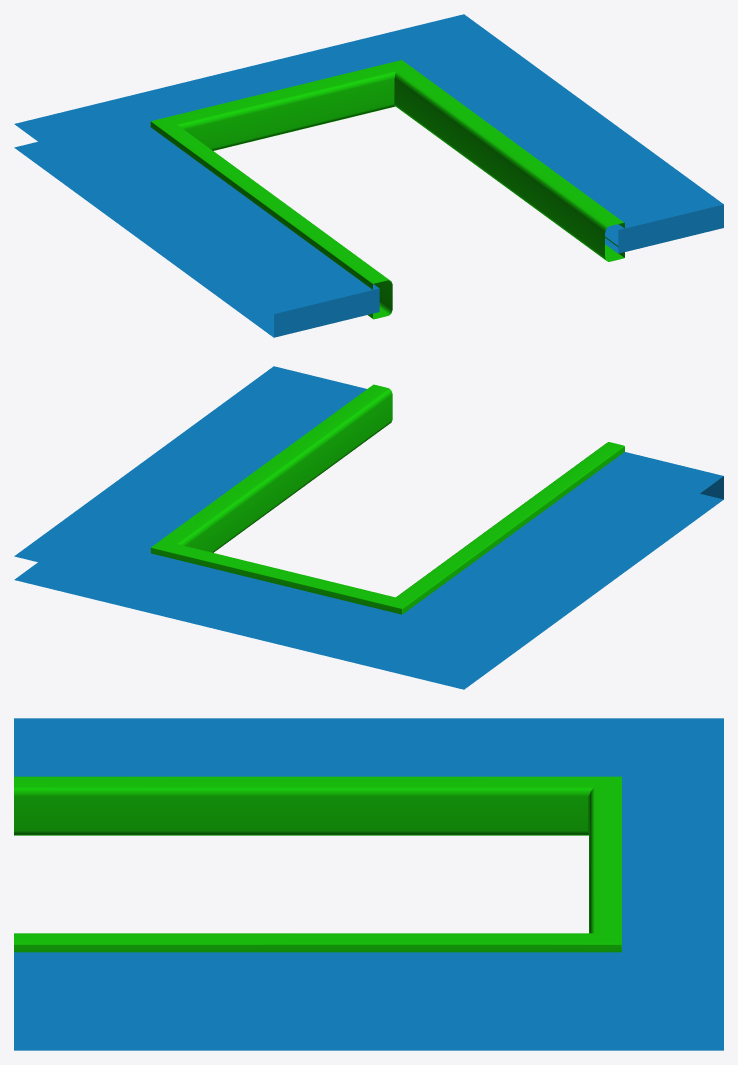
Rendered from SM_Wall_04.fbx.
The picture shows the model from 3 angles, top to bottom: view 1: azimuth 30°, elevation 25°; view 2: azimuth 150°, elevation 25°; view 3: azimuth 270°, elevation 25°; orthographic projection. The views are drawn at different scales.
Visible parts, largest first — view 1: SM_Wall_04; view 2: SM_Wall_04; view 3: SM_Wall_04.
Part boxes in pixels (bbox=[...]): SM_Wall_04: bbox=[14, 14, 723, 337]; SM_Wall_04: bbox=[14, 366, 723, 689]; SM_Wall_04: bbox=[14, 718, 723, 1050].
Bounding box in the file's own units: 300 × 22.73 × 300.
